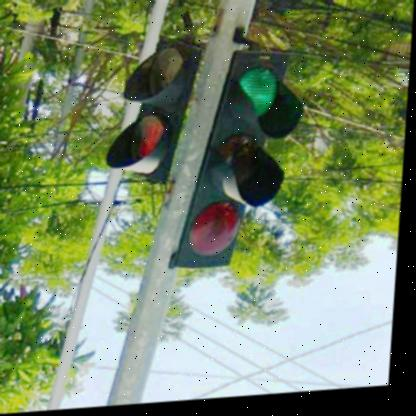Traffic Light -Green-: (176, 51, 306, 275)
